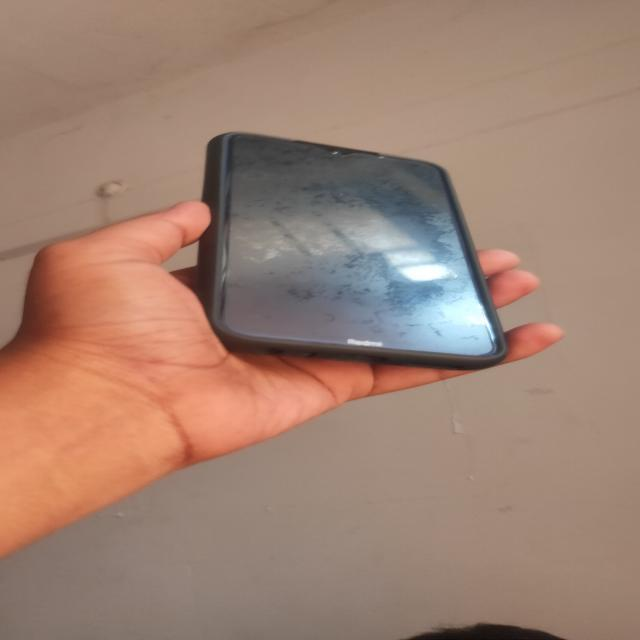Phone: (192, 127, 516, 370)
